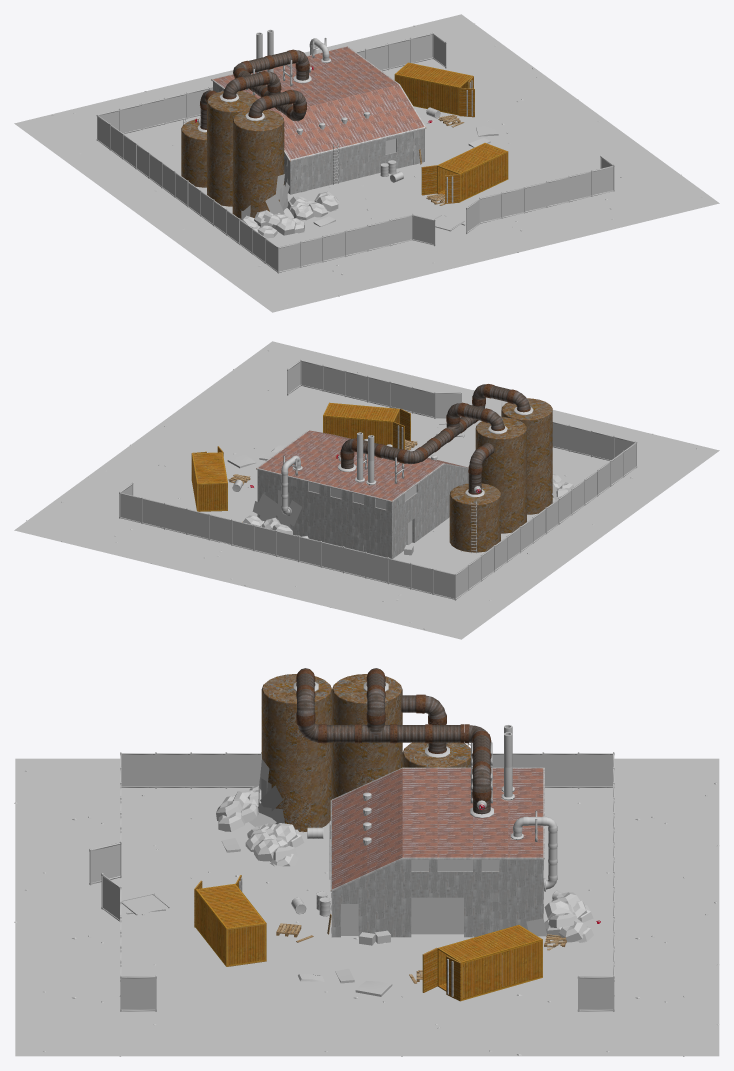
Rendered from factory_presentation.fbx.
3 views of the same model, one above another, from view 1: azimuth 30°, elevation 25°; view 2: azimuth 150°, elevation 25°; view 3: azimuth 270°, elevation 25° (orthographic). The views are drawn at different scales.
Parts seen in each view (by area): view 1: ground_debris14, ground_debris15, ground_debris9, ground4, ground_debris13, ground_debris7, ground_debris12, ground_debris11, ground_debris16, ground_debris20, gas_tank4, ground (+50 smaller); view 2: ground4, ground_debris20, ground_debris16, ground_debris14, ground_debris13, ground_debris17, ground_debris18, ground_debris19, ground_debris9, ground_debris15, gas_tank1, ground (+48 smaller); view 3: ground_debris17, ground_debris14, ground_debris13, ground4, ground_debris20, ground_debris15, ground_debris12, ground_debris18, ground_debris16, ground_debris9, ground_debris7, ground_debris11 (+46 smaller).
Part boxes in pixels (x1,y1,x2,y2): ground_debris14: [475, 90, 616, 149]; ground_debris15: [592, 165, 719, 225]; ground_debris9: [221, 262, 361, 312]; ground4: [527, 128, 667, 178]; ground_debris13: [442, 52, 564, 111]; ground_debris7: [323, 240, 450, 290]; ground_debris12: [503, 196, 629, 246]; ground_debris11: [413, 215, 540, 268]; ground_debris16: [14, 101, 154, 161]; ground_debris20: [372, 14, 512, 69]; gas_tank4: [233, 110, 284, 178]; ground: [66, 139, 181, 198]; ground4: [169, 379, 309, 438]; ground_debris20: [14, 492, 141, 552]; ground_debris16: [372, 589, 512, 639]; ground_debris14: [117, 417, 258, 472]; ground_debris13: [66, 455, 192, 505]; ground_debris17: [283, 567, 410, 617]; ground_debris18: [193, 545, 320, 595]; ground_debris19: [104, 524, 230, 573]; ground_debris9: [579, 428, 719, 488]; ground_debris15: [221, 341, 361, 400]; gas_tank1: [449, 483, 500, 552]; ground: [438, 551, 564, 601]; ground_debris17: [578, 818, 719, 878]; ground_debris14: [297, 997, 437, 1056]; ground_debris13: [437, 997, 578, 1056]; ground4: [156, 997, 296, 1056]; ground_debris20: [578, 997, 719, 1056]; ground_debris15: [15, 997, 156, 1056]; ground_debris12: [15, 937, 155, 996]; ground_debris18: [578, 878, 719, 937]; ground_debris16: [577, 758, 719, 818]; ground_debris9: [14, 758, 155, 818]; ground_debris7: [15, 818, 155, 878]; ground_debris11: [14, 878, 155, 937].
Bounding box in the file's own units: 20.03 × 5.33 × 20.05.
